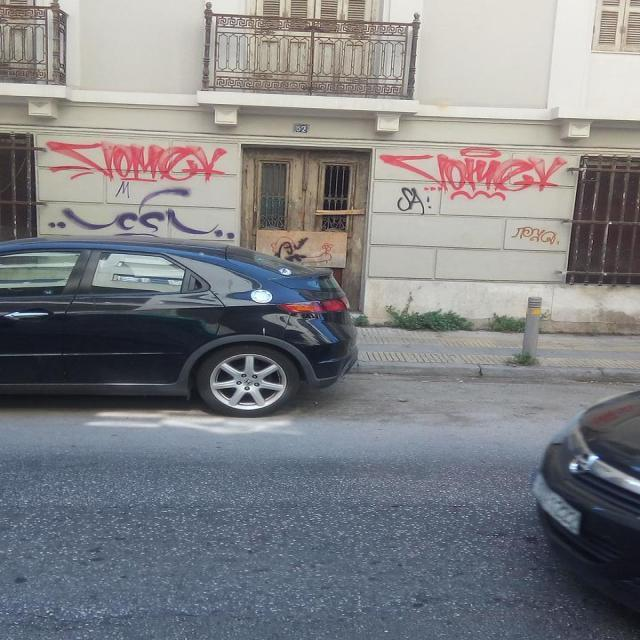nonspitting: (46, 181, 238, 238), (380, 147, 568, 201), (46, 140, 226, 183), (270, 236, 333, 264), (397, 187, 432, 216), (511, 226, 561, 245)
